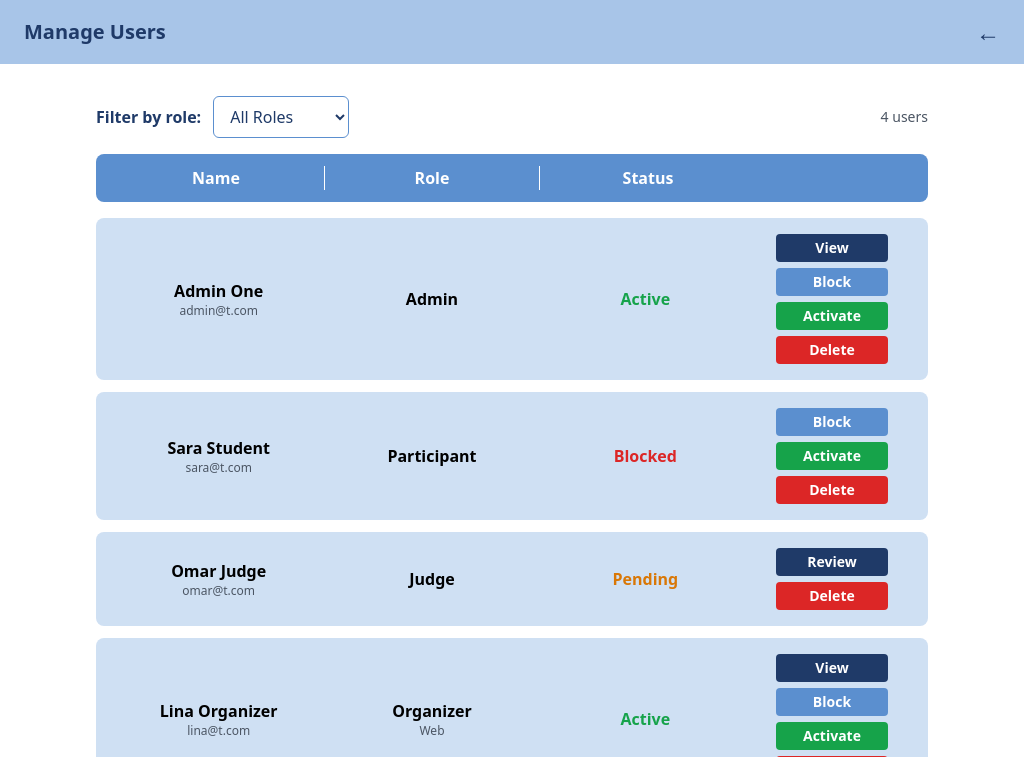
Test: Admin: manage users (block, activate, delete, categories) › re-activates a blocked user
Expected: the text "Sara Student" is shown, [167, 437, 270, 459]
Click the button "Activate" next to "Blocked" at point(832, 456), box [776, 442, 888, 470]
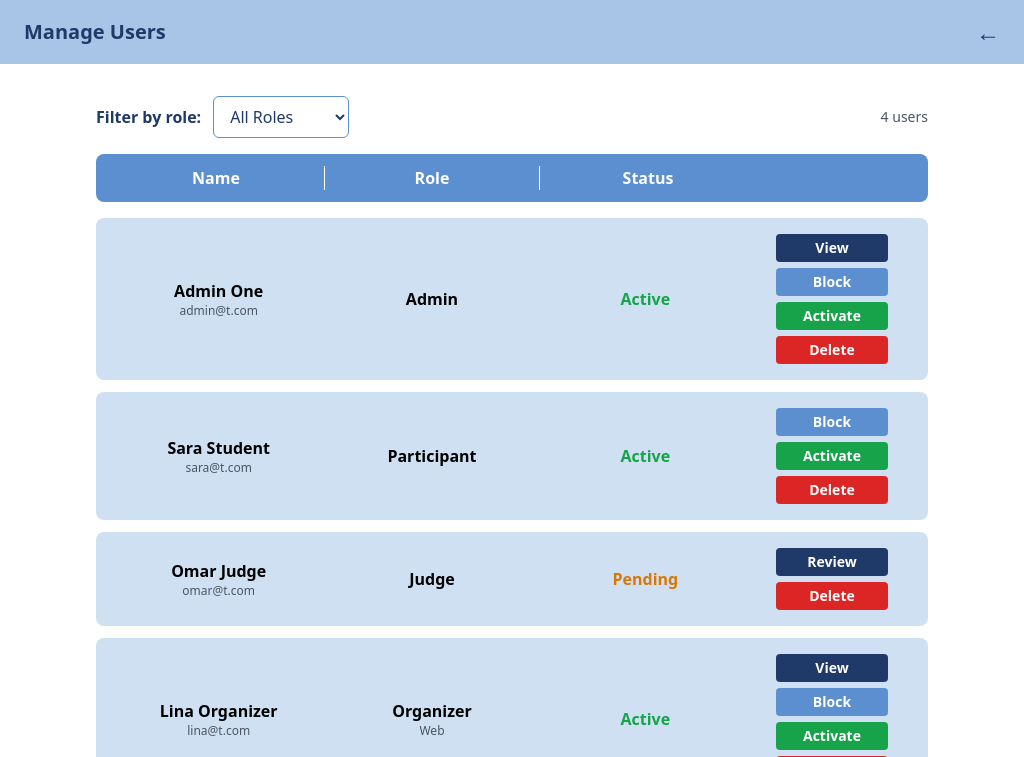
Expected: the text "Active" next to "participant" is shown, [620, 445, 670, 467]
